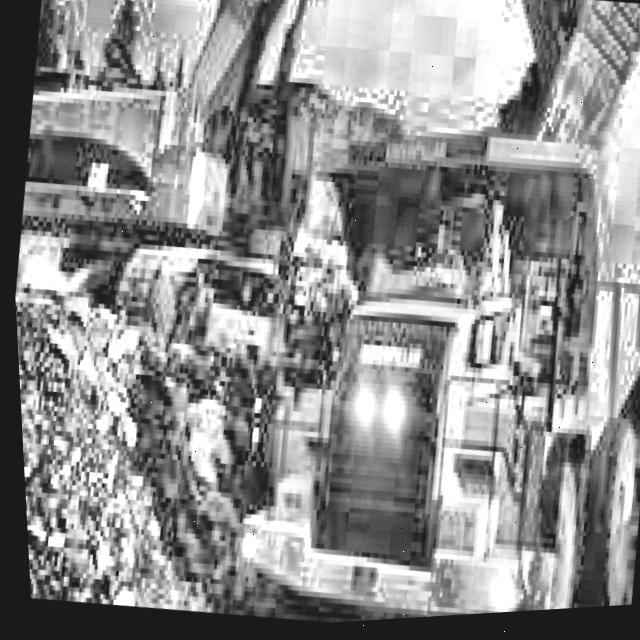dump_truck: (244, 81, 640, 629)
excavator: (3, 0, 640, 359)
